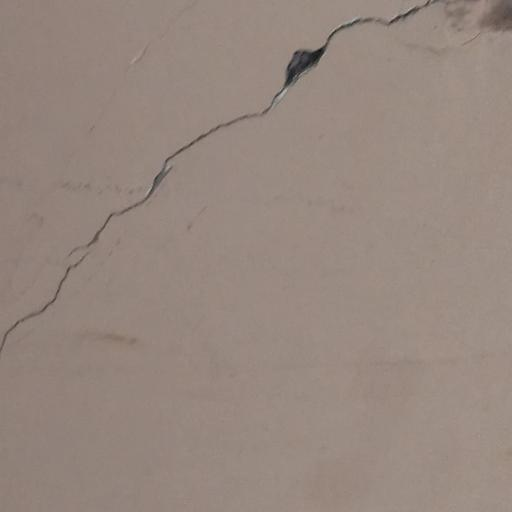major_crack: (0, 0, 450, 354)
